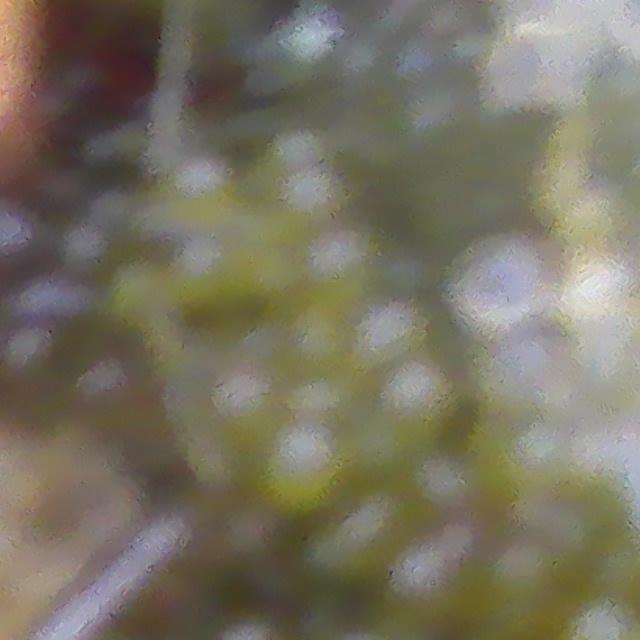SeaGrape: (444, 241, 535, 331), (556, 259, 627, 332), (386, 357, 454, 423), (481, 35, 546, 100)
